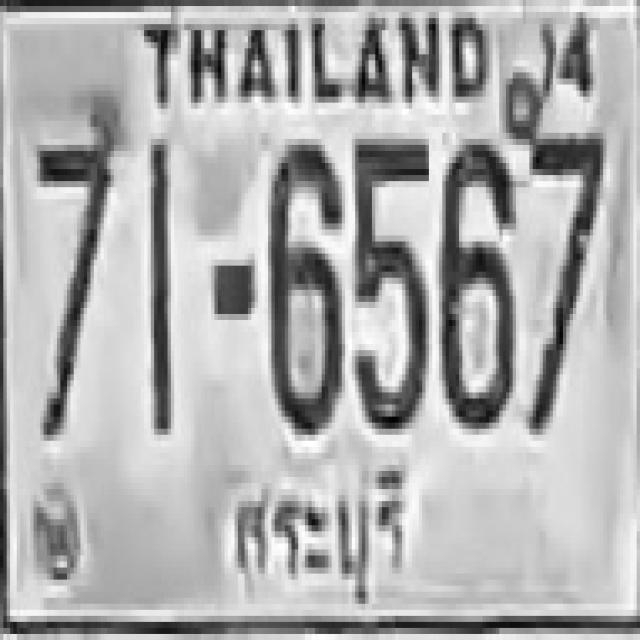1: (146, 136, 169, 432)
5: (352, 133, 425, 429)
6: (437, 132, 511, 422), (268, 139, 338, 429)
7: (33, 90, 124, 434), (524, 126, 602, 428)
SRI: (219, 450, 415, 612)
